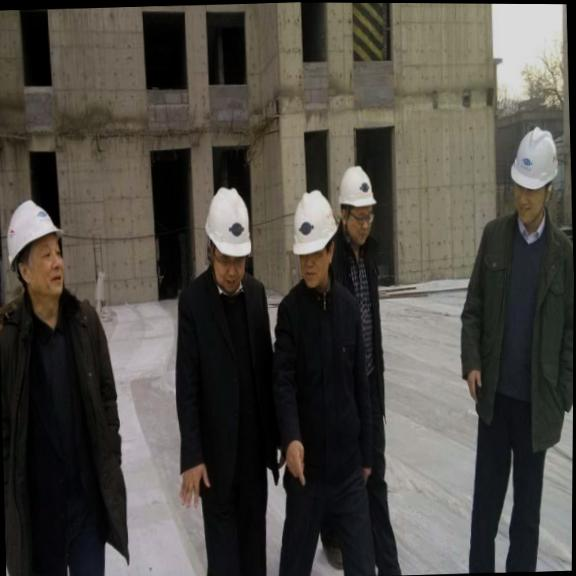no_safety_vest: (0, 298, 136, 572), (166, 271, 284, 492), (467, 216, 574, 428), (275, 278, 373, 496)
